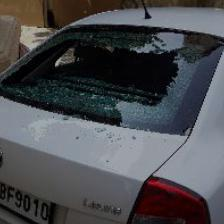glass_shatter: (1, 21, 188, 120)
